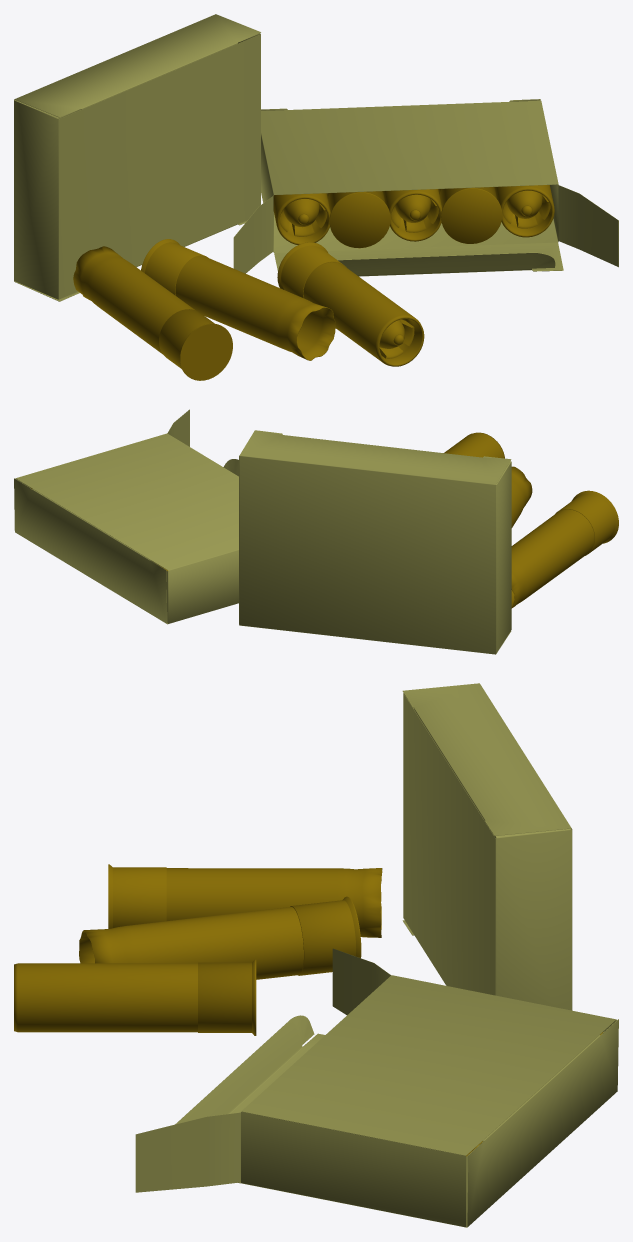
File: 12ga_APslugAllScene.FBX
3 views of the same model, one above another, from view 1: azimuth 30°, elevation 25°; view 2: azimuth 150°, elevation 25°; view 3: azimuth 270°, elevation 25° (orthographic). The views are drawn at different scales.
Visible parts, largest first — view 1: BoxOn5_12ga_APslug (×2), 12ga_Shell_APslug, 12ga_Shell_APslug001, 12ga_APslug; view 2: BoxOn5_12ga_APslug (×2), 12ga_Shell_APslug001, 12ga_APslug, 12ga_Shell_APslug; view 3: BoxOn5_12ga_APslug (×2), 12ga_APslug, 12ga_Shell_APslug, 12ga_Shell_APslug001.
Part boxes in pixels (x1,y1,x2,y2): BoxOn5_12ga_APslug (×2): (14, 14, 618, 301); 12ga_Shell_APslug: (141, 239, 335, 360); 12ga_Shell_APslug001: (73, 246, 232, 380); 12ga_APslug: (277, 242, 424, 366); BoxOn5_12ga_APslug (×2): (14, 409, 511, 654); 12ga_Shell_APslug001: (511, 490, 618, 608); 12ga_APslug: (444, 432, 504, 458); 12ga_Shell_APslug: (511, 466, 532, 527); BoxOn5_12ga_APslug (×2): (135, 683, 618, 1227); 12ga_APslug: (14, 959, 256, 1035); 12ga_Shell_APslug: (79, 896, 361, 979); 12ga_Shell_APslug001: (108, 864, 382, 937).
Size of the model in its own units: 20.16 by 16.22 by 6.8.
